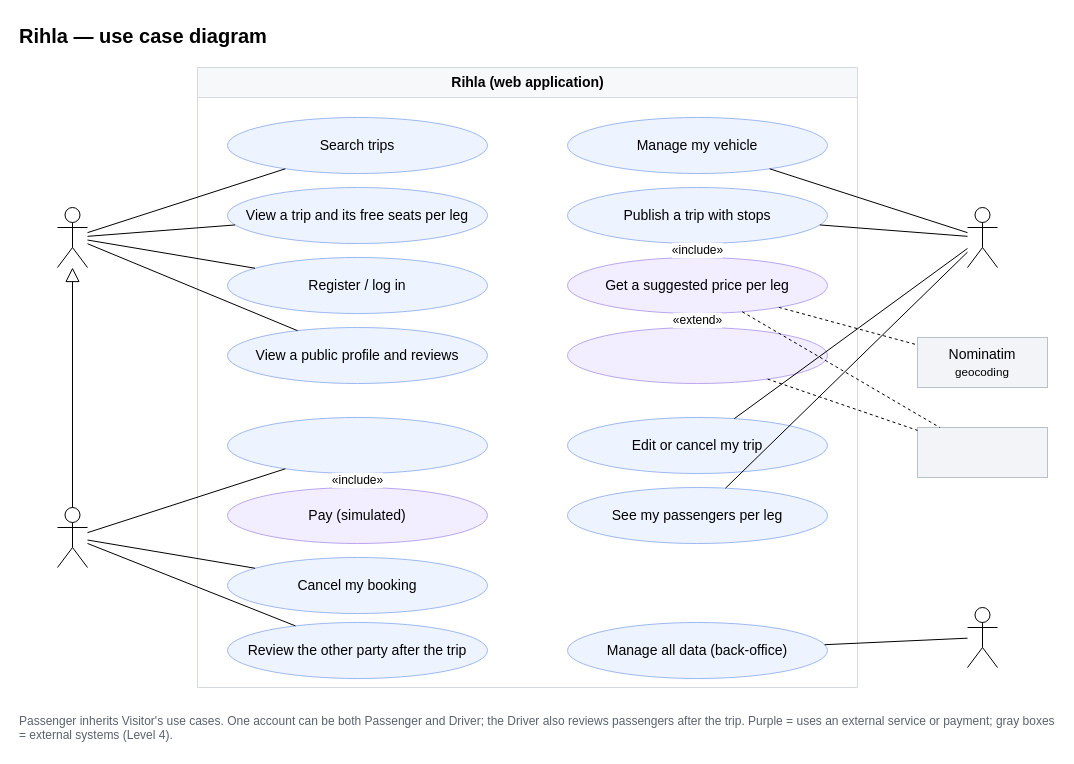
Image size: 1074x764. Some labels were removed from this diagram. Here are the shapes that lost their labels. From the top down, the centre of each, then its label:
point 72,237: Visitor
point 982,237: Driver
point 697,355: Show the route on a map
point 357,445: Book all or part of a trip
point 982,452: OSRM road routing
point 72,537: Passenger
point 982,637: Administrator
